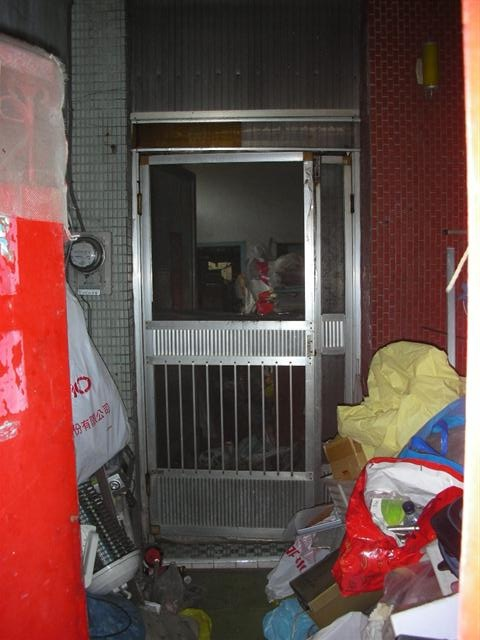plastic_bag: (324, 451, 461, 600), (334, 318, 461, 469)
